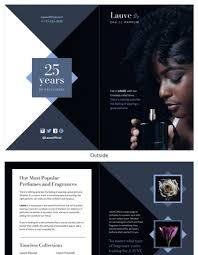paper: (1, 4, 196, 254)
